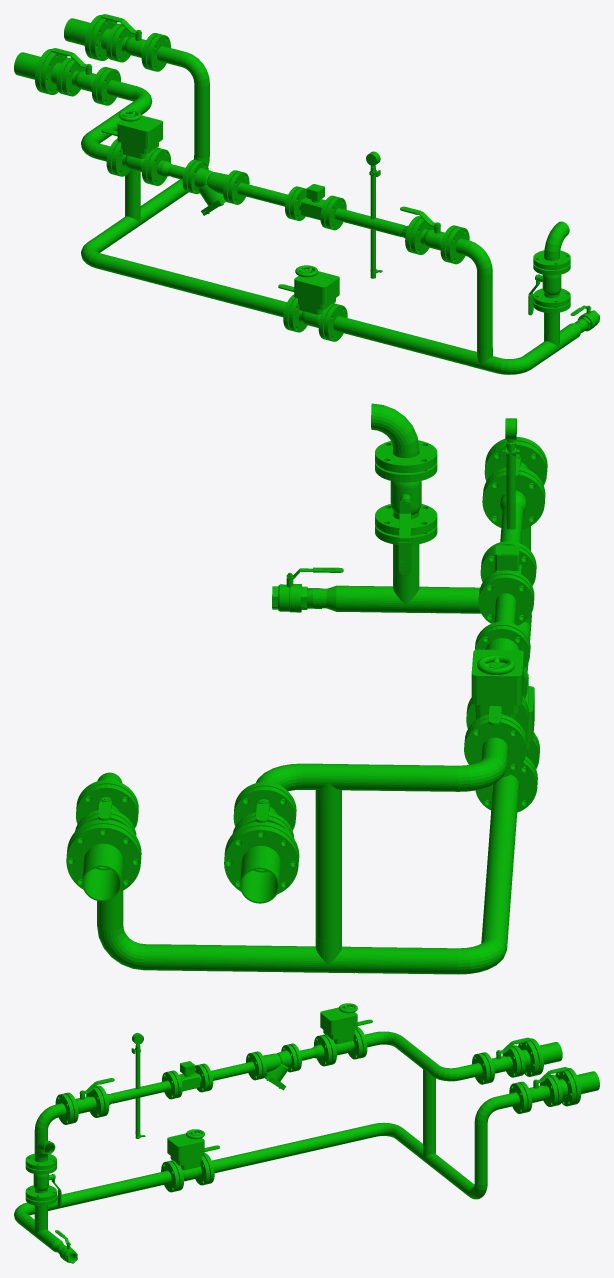
Rendered from drainage-pump.glb.
3 views of the same model, one above another, from view 1: azimuth 30°, elevation 25°; view 2: azimuth 150°, elevation 25°; view 3: azimuth 270°, elevation 25° (orthographic). The views are drawn at different scales.
Parts seen in each view (by area): view 1: Fake; view 2: Fake; view 3: Fake.
Part boxes in pixels (box(x1,y1,x2,y2)): Fake: box(14, 14, 599, 374); Fake: box(66, 403, 547, 974); Fake: box(14, 1003, 599, 1263).
Size of the model in its own units: 1.81 by 1.05 by 3.38.
